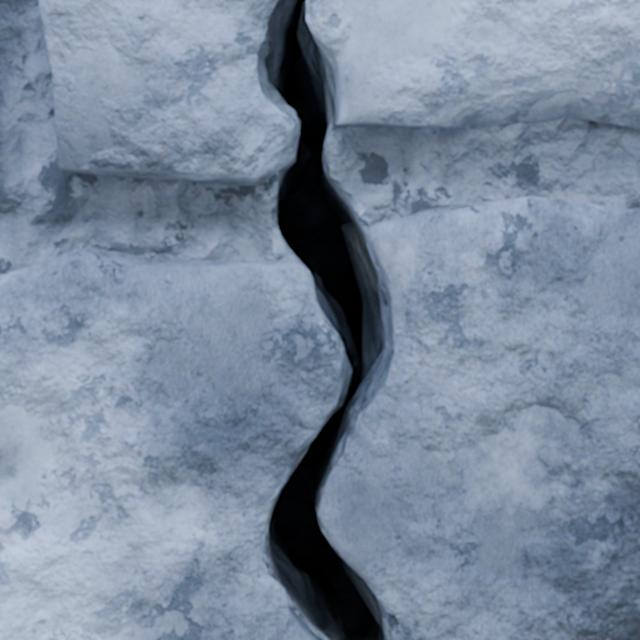broken_brick: (319, 196, 639, 639), (0, 250, 342, 639), (39, 0, 298, 186), (306, 0, 639, 128)
crack: (256, 0, 401, 639), (60, 52, 71, 173), (170, 274, 270, 280)
